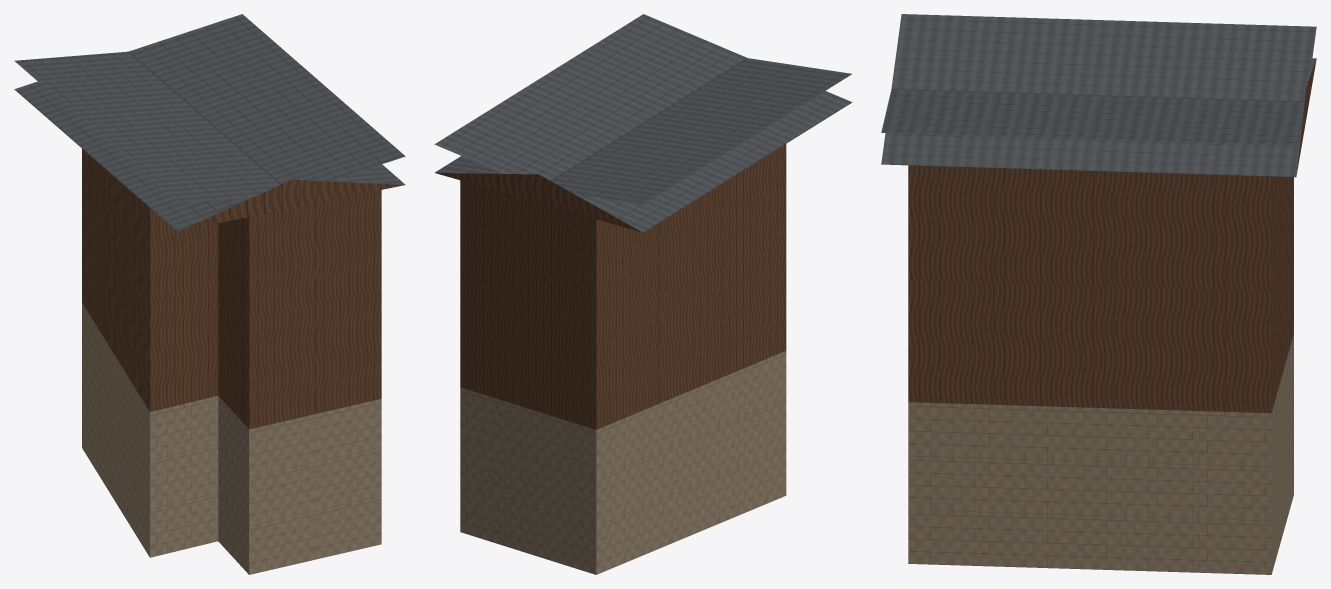
The model's file is bld_c-7_-37_961.gltf.
3 renders of one model, left to right at view 1: azimuth 30°, elevation 25°; view 2: azimuth 150°, elevation 25°; view 3: azimuth 270°, elevation 25°, orthographic. The views are drawn at different scales.
Parts seen in each view (by area): view 1: bld_c-7_-37_961; view 2: bld_c-7_-37_961; view 3: bld_c-7_-37_961.
Part boxes in pixels (x1,y1,x2,y2): bld_c-7_-37_961: (14,14,405,574); bld_c-7_-37_961: (434,14,852,574); bld_c-7_-37_961: (881,14,1316,574).
Bounding box in the file's own units: 8.9 × 13.8 × 12.45.
4 materials, 4 textured.
